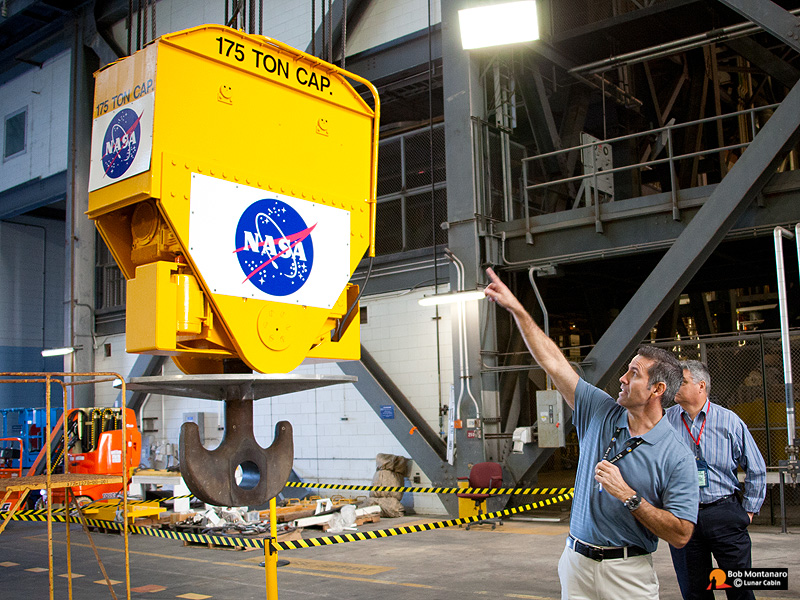NASA: (233, 197, 321, 297), (97, 106, 146, 181)
